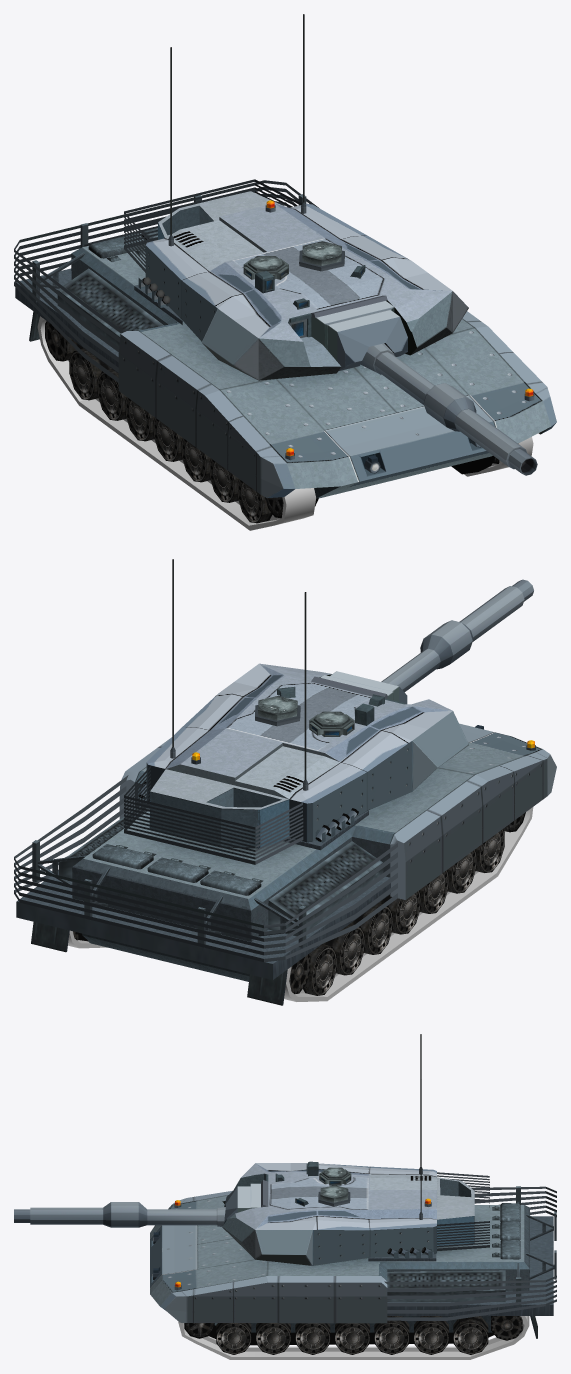
File: revolution4.fbx
The picture shows the model from 3 angles, top to bottom: view 1: azimuth 30°, elevation 25°; view 2: azimuth 150°, elevation 25°; view 3: azimuth 270°, elevation 25°; orthographic projection. The views are drawn at different scales.
Visible parts, largest first — view 1: polySurface585, polySurface540, polySurface491, polySurface483, polySurface473, polySurface472, polySurface467, polySurface469, polySurface468, polySurface470, polySurface471, polySurface474; view 2: polySurface585, polySurface540, polySurface491, polySurface483, polySurface473, polySurface472, polySurface471, polySurface470, polySurface467, polySurface468, polySurface469, polySurface474; view 3: polySurface585, polySurface540, polySurface491, polySurface417, polySurface464, polySurface463, polySurface462, polySurface460, polySurface17, polySurface459, polySurface461, polySurface458.
Boxes of the visible parts, x1,y1,x2,y2 form: polySurface585: (14,180,556,506); polySurface540: (124,14,468,380); polySurface491: (312,301,537,475); polySurface483: (37,316,315,530); polySurface473: (69,348,111,400); polySurface472: (97,369,126,420); polySurface467: (237,479,272,523); polySurface469: (181,438,210,482); polySurface468: (209,458,238,502); polySurface470: (153,417,182,461); polySurface471: (125,397,154,441); polySurface474: (45,321,83,361); polySurface585: (14,723,556,1005); polySurface540: (124,559,468,864); polySurface491: (320,579,533,704); polySurface483: (284,807,533,1001); polySurface473: (303,944,336,995); polySurface472: (322,923,364,975); polySurface471: (350,903,392,954); polySurface470: (378,891,420,934); polySurface467: (475,829,504,872); polySurface468: (447,849,476,893); polySurface469: (419,870,448,913); polySurface474: (289,954,310,993); polySurface585: (150,1186,556,1345); polySurface540: (222,1034,489,1265); polySurface491: (14,1183,260,1227); polySurface417: (178,1316,529,1359); polySurface464: (453,1316,488,1354); polySurface463: (414,1316,448,1354); polySurface462: (374,1316,409,1354); polySurface460: (295,1323,330,1354); polySurface17: (216,1323,251,1354); polySurface459: (256,1323,290,1354); polySurface461: (335,1323,369,1354); polySurface458: (491,1316,522,1340).
Size of the model in its own units: 59.09 by 72.99 by 138.
